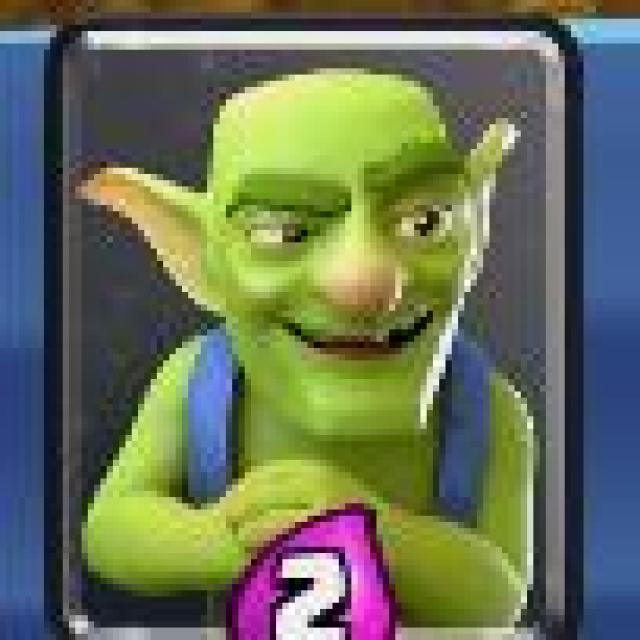Goblins: (45, 12, 581, 640)
